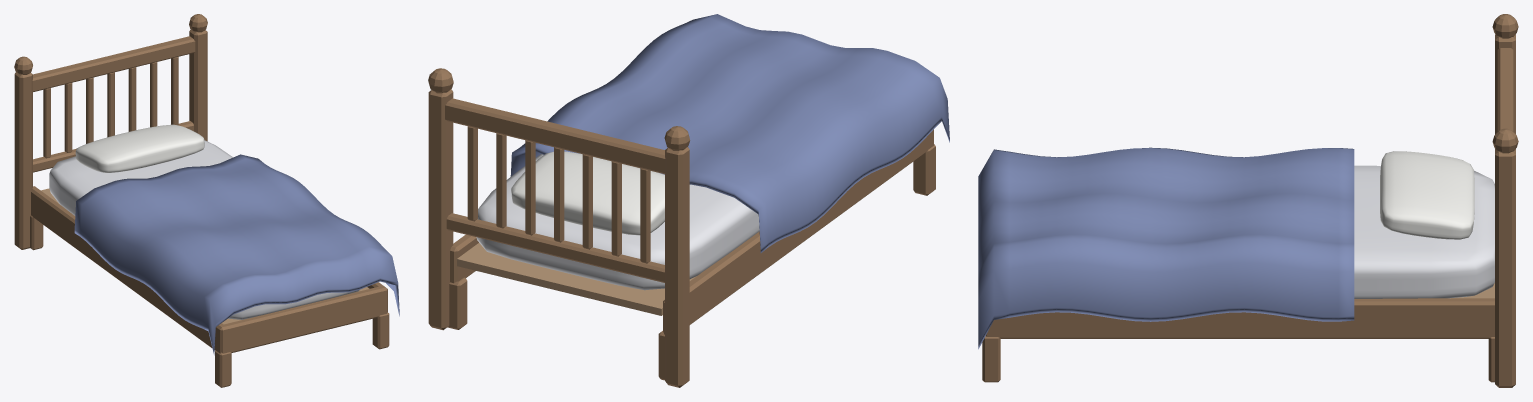
Rendered from bed.fbx.
3 renders of one model, left to right at view 1: azimuth 30°, elevation 25°; view 2: azimuth 150°, elevation 25°; view 3: azimuth 270°, elevation 25°, orthographic. The views are drawn at different scales.
Parts seen in each view (by area): view 1: Blanket, Frame, Mattress, Pillow; view 2: Blanket, Frame, Mattress, Pillow; view 3: Blanket, Frame, Mattress, Pillow.
Part boxes in pixels (x1,y1,x2,y2): Blanket: (74,154,399,355); Frame: (14,14,389,387); Mattress: (49,140,359,319); Pillow: (75,124,204,172); Blanket: (510,14,949,252); Frame: (428,68,935,387); Mattress: (476,154,759,290); Pillow: (511,151,664,235); Blanket: (978,147,1354,349); Frame: (982,14,1518,387); Mattress: (1354,165,1494,298); Pillow: (1380,151,1474,239).
Size of the model in its own units: 1.14 by 1.08 by 2.07.
